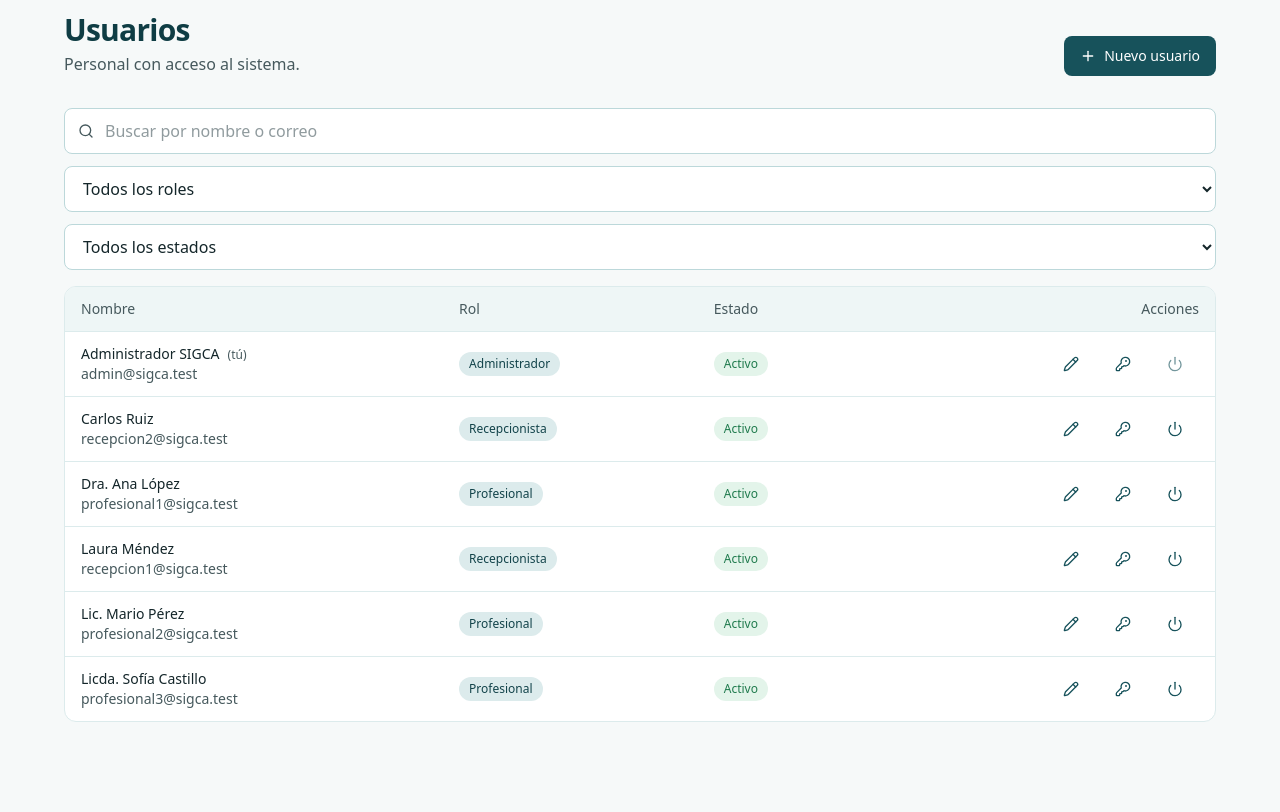
Usuarios › busca ignorando tildes y mayúsculas, y filtra por rol
This screenshot has width=1280, height=812.
expect the text "Laura Méndez" is shown: met, box [81,539,174,558]
Type "MENDEZ" into the search field labelled "Buscar por nombre o correo" at (640, 131), box [64,108,1216,154]
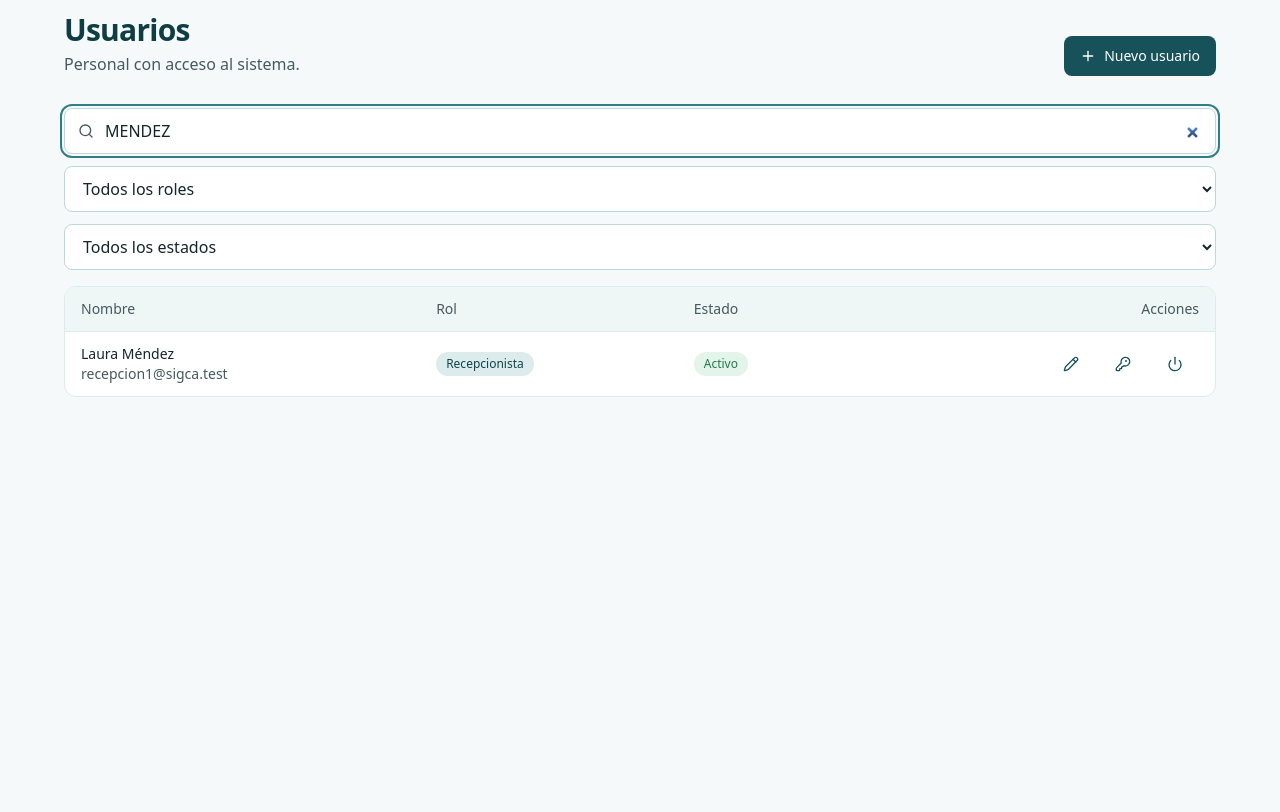
expect the text "Laura Méndez" is shown: met, box [81,344,174,363]
expect the number of rows is 2: met, box [65,287,1215,332]; [65,332,1215,396]
Clear the search field named "Buscar por nombre o correo" at (640, 131), box [64,108,1216,154]
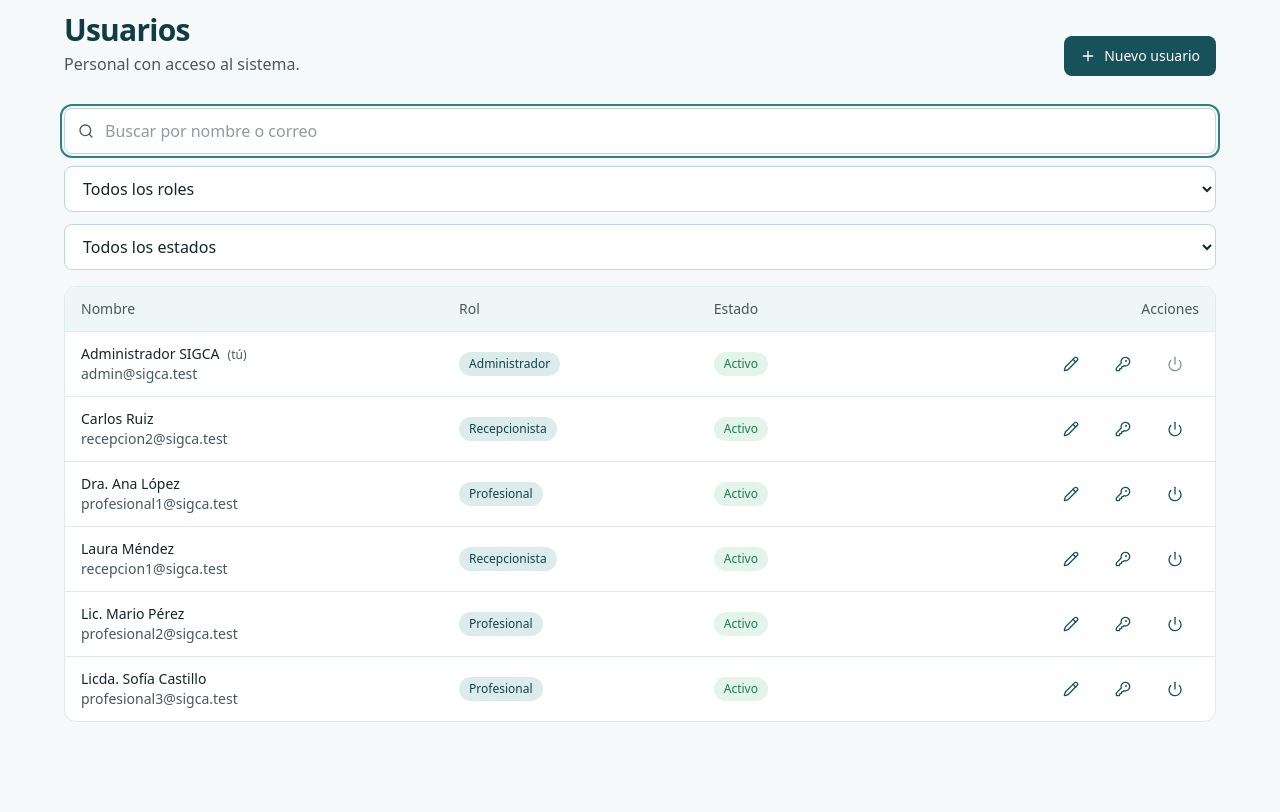
Select "Profesional" in the dropdown named "Filtrar por rol" at (640, 189), box [64,166,1216,212]
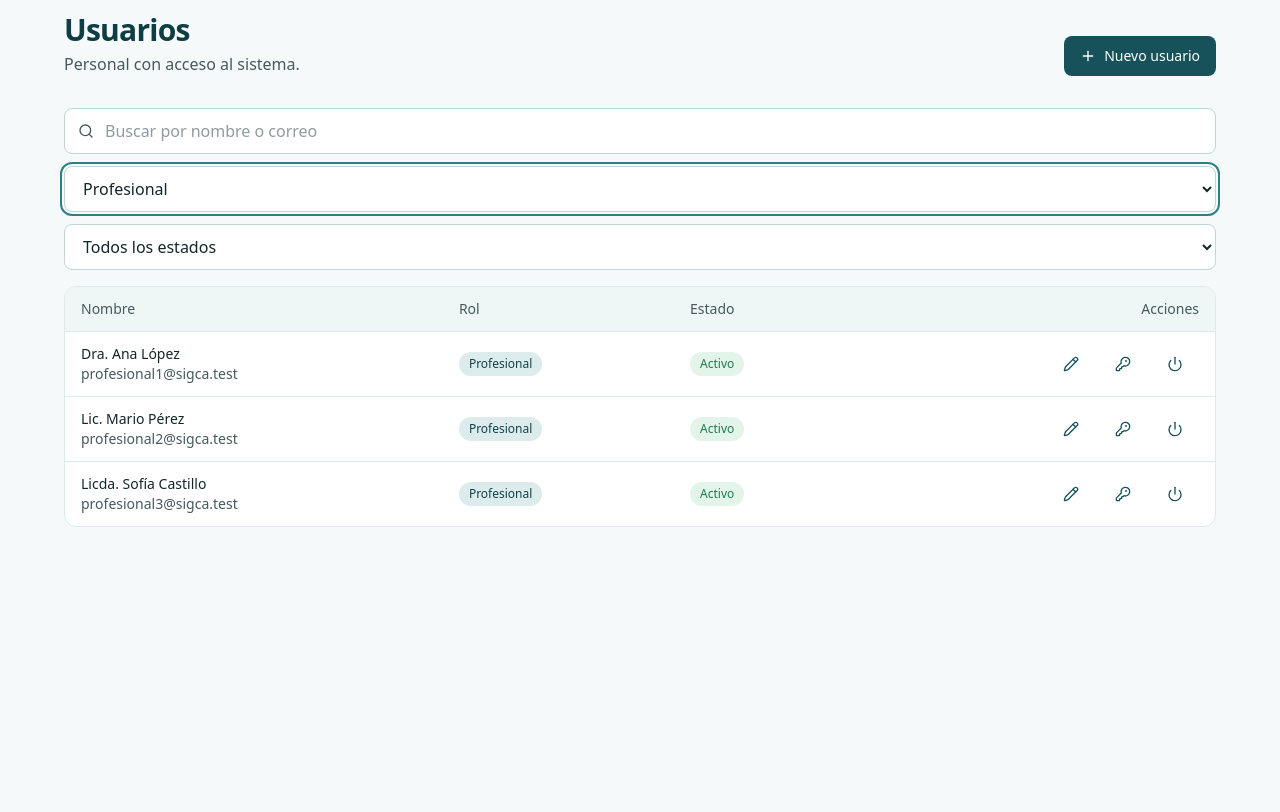
expect the number of rows is 4: met, box [65,287,1215,332]; [65,332,1215,396]; [65,396,1215,462]; [65,462,1215,526]
